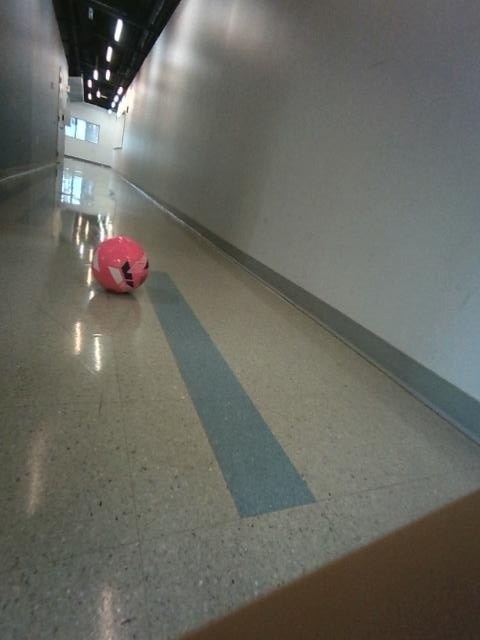ball: (92, 236, 148, 292)
